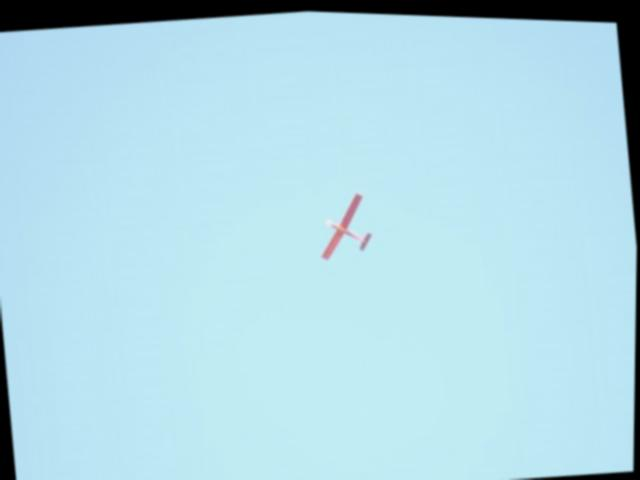iha: (310, 176, 384, 271)
